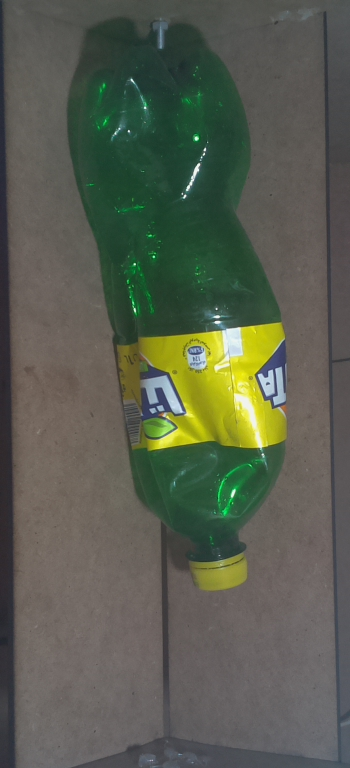Bouteille_1L: (58, 25, 302, 600)
